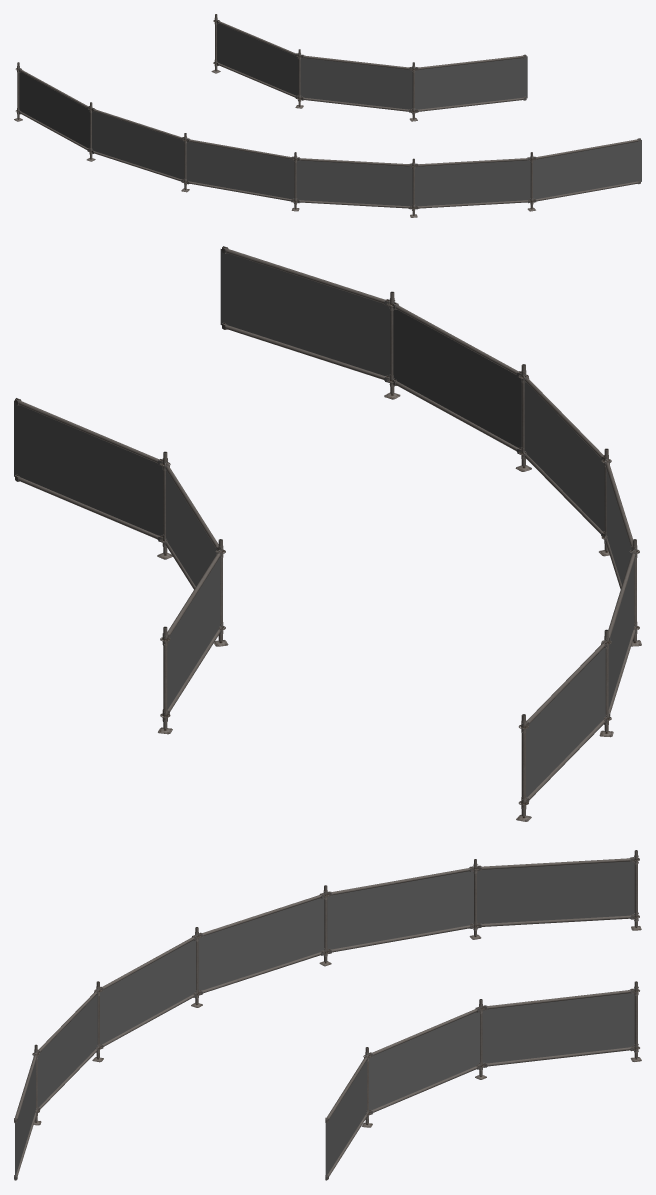
Rendered from scaffold_foot_turnl_96x576.fbx.
3 views of the same model, one above another, from view 1: azimuth 30°, elevation 25°; view 2: azimuth 150°, elevation 25°; view 3: azimuth 270°, elevation 25° (orthographic). The views are drawn at different scales.
Parts seen in each view (by area): view 1: scaffold_foot_turnL_96x576; view 2: scaffold_foot_turnL_96x576; view 3: scaffold_foot_turnL_96x576.
Boxes of the visible parts, x1=… form: scaffold_foot_turnL_96x576: x1=14, y1=14, x2=641, y2=217; scaffold_foot_turnL_96x576: x1=14, y1=246, x2=641, y2=821; scaffold_foot_turnL_96x576: x1=14, y1=850, x2=641, y2=1180.
Bounding box in the file's own units: 775 × 106 × 776.
